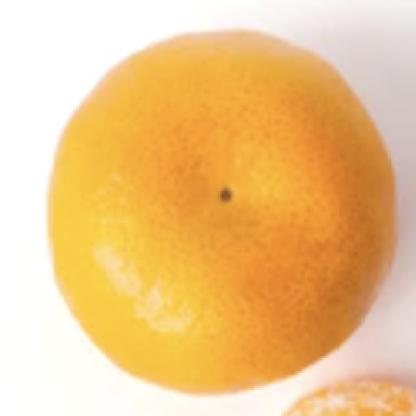fresh: (49, 33, 395, 396)
